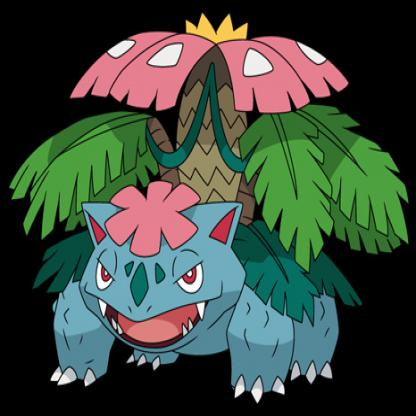Venusaur: (10, 13, 416, 416)
